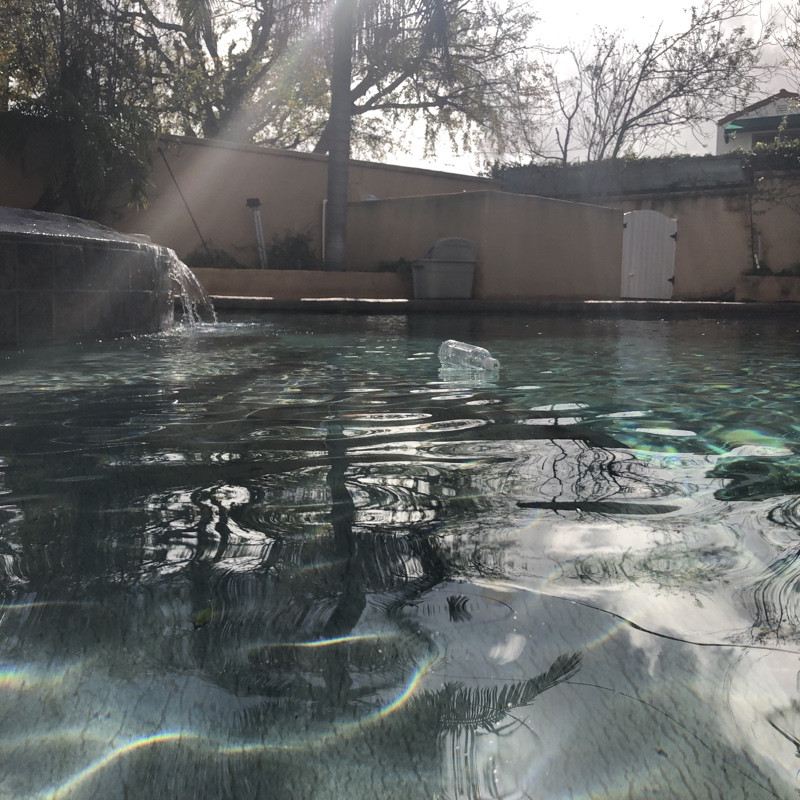Plastic Bottle: (435, 338, 504, 381)
